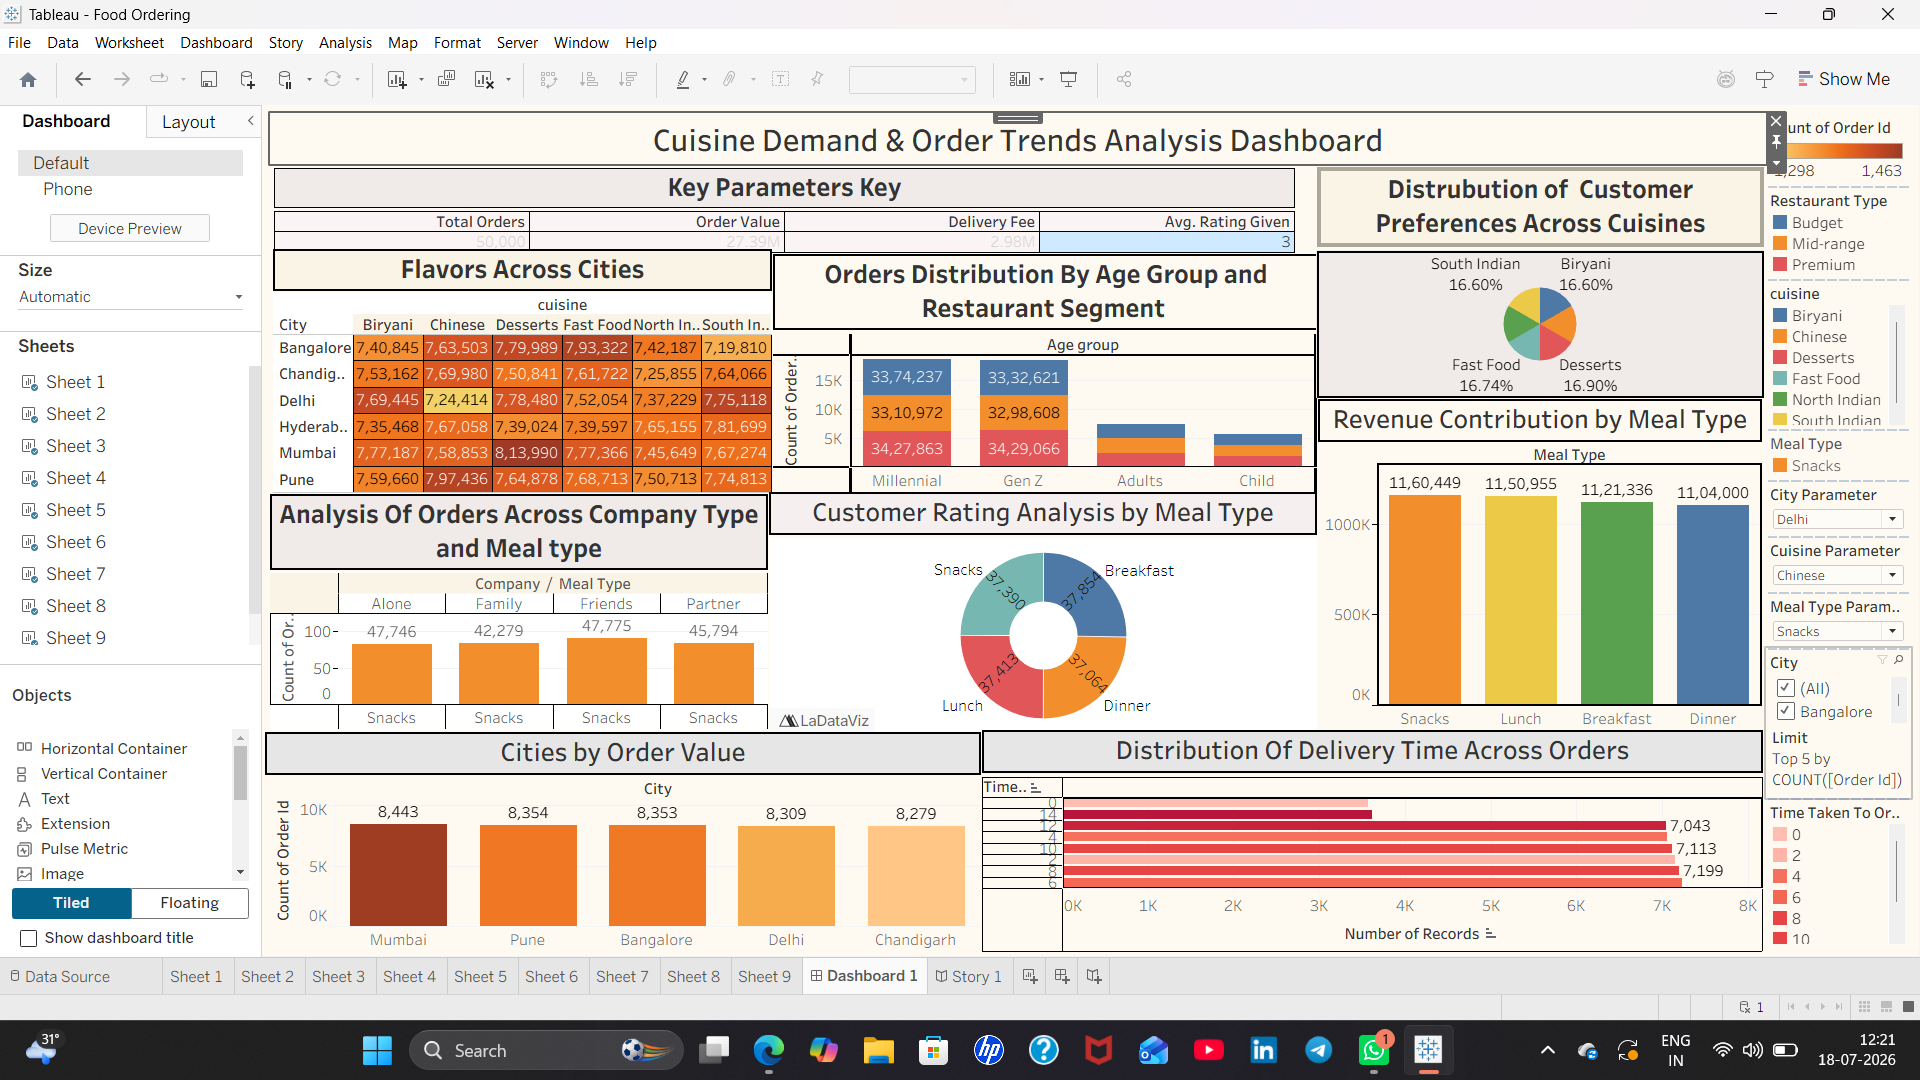

Layout of this report page (visuals, bound fields, positions):
{"tool":"tableau","page":{"name":"Dashboard 1","canvas":[1390,1000],"ordinal":0},"visuals":[{"type":"title","box":[8,8,1374,47]},{"type":"worksheet","title":"Sheet 1","mark":"Automatic","box":[8,55,1272,937]},{"type":"legend","title":"Sheet 2","param":"[federated.1h84x0h11qv7741bwr4mg15dqc71].[cnt:order_id:qk]","box":[1280,55,102,73]},{"type":"parameter","param":"[Parameters].[Meal Type Parameter]","box":[1146,56,123,95]},{"type":"parameter","param":"[Parameters].[City Parameter]","box":[830,57,146,94]},{"type":"parameter","param":"[Parameters].[Cuisine Parameter]","box":[979,57,165,94]},{"type":"legend","title":"Sheet 3","param":"[federated.1h84x0h11qv7741bwr4mg15dqc71].[none:restaurant_type:nk]","box":[1280,128,102,93]},{"type":"worksheet","title":"Sheet 3","mark":"Automatic","rows":["order_id"],"cols":["Calculation_1716904532996097"],"box":[504,152,448,302]},{"type":"worksheet","title":"Sheet 6","box":[954,152,320,308]},{"type":"worksheet","title":"Sheet 2","mark":"Square","rows":["city"],"cols":["cuisine"],"box":[11,155,491,297]},{"type":"legend","title":"Sheet 4","param":"[federated.1h84x0h11qv7741bwr4mg15dqc71].[none:cuisine:nk]","box":[1280,221,102,156]},{"type":"legend","title":"Sheet 5","param":"[federated.1h84x0h11qv7741bwr4mg15dqc71].[none:meal_type:nk]","box":[1280,377,102,51]},{"type":"filter","title":"Sheet 7","param":"[federated.1h84x0h11qv7741bwr4mg15dqc71].[none:city:nk]","box":[1280,428,102,289]},{"type":"worksheet","title":"Sheet 4","mark":"Pie","box":[13,448,423,301]},{"type":"worksheet","title":"Sheet 5","mark":"Automatic","rows":["order_id"],"cols":["company","meal_type"],"box":[439,454,463,295]},{"type":"worksheet","title":"Sheet 8","mark":"Automatic","rows":["order_value"],"cols":["meal_type"],"box":[903,464,372,284]},{"type":"legend","title":"Sheet 9","param":"[federated.1h84x0h11qv7741bwr4mg15dqc71].[none:Time Taken To Order (bin):ok]","box":[1280,717,102,198]},{"type":"worksheet","title":"Sheet 9","mark":"Automatic","rows":["Time Taken To Order (bin)"],"cols":["Calculation_0834271841595392"],"box":[710,749,565,240]},{"type":"worksheet","title":"Sheet 7","mark":"Automatic","rows":["order_id"],"cols":["city"],"box":[13,750,695,238]}]}

Visuals, with their boxes on the page's 1390x1000 design canvas (x1, y1, x2, y2). These are canvas units, not pixel positions in the 1920x1080 screenshot, which may show the page scaled, cropped or inside an application window:
title: {"left": 8, "top": 8, "right": 1382, "bottom": 55}
"Sheet 1" worksheet: {"left": 8, "top": 55, "right": 1280, "bottom": 992}
"Sheet 2" legend: {"left": 1280, "top": 55, "right": 1382, "bottom": 128}
parameter: {"left": 1146, "top": 56, "right": 1269, "bottom": 151}
parameter: {"left": 830, "top": 57, "right": 976, "bottom": 151}
parameter: {"left": 979, "top": 57, "right": 1144, "bottom": 151}
"Sheet 3" legend: {"left": 1280, "top": 128, "right": 1382, "bottom": 221}
"Sheet 3" worksheet: {"left": 504, "top": 152, "right": 952, "bottom": 454}
"Sheet 6" worksheet: {"left": 954, "top": 152, "right": 1274, "bottom": 460}
"Sheet 2" worksheet (Square marks): {"left": 11, "top": 155, "right": 502, "bottom": 452}
"Sheet 4" legend: {"left": 1280, "top": 221, "right": 1382, "bottom": 377}
"Sheet 5" legend: {"left": 1280, "top": 377, "right": 1382, "bottom": 428}
"Sheet 7" filter: {"left": 1280, "top": 428, "right": 1382, "bottom": 717}
"Sheet 4" worksheet (Pie marks): {"left": 13, "top": 448, "right": 436, "bottom": 749}
"Sheet 5" worksheet: {"left": 439, "top": 454, "right": 902, "bottom": 749}
"Sheet 8" worksheet: {"left": 903, "top": 464, "right": 1275, "bottom": 748}
"Sheet 9" legend: {"left": 1280, "top": 717, "right": 1382, "bottom": 915}
"Sheet 9" worksheet: {"left": 710, "top": 749, "right": 1275, "bottom": 989}
"Sheet 7" worksheet: {"left": 13, "top": 750, "right": 708, "bottom": 988}
